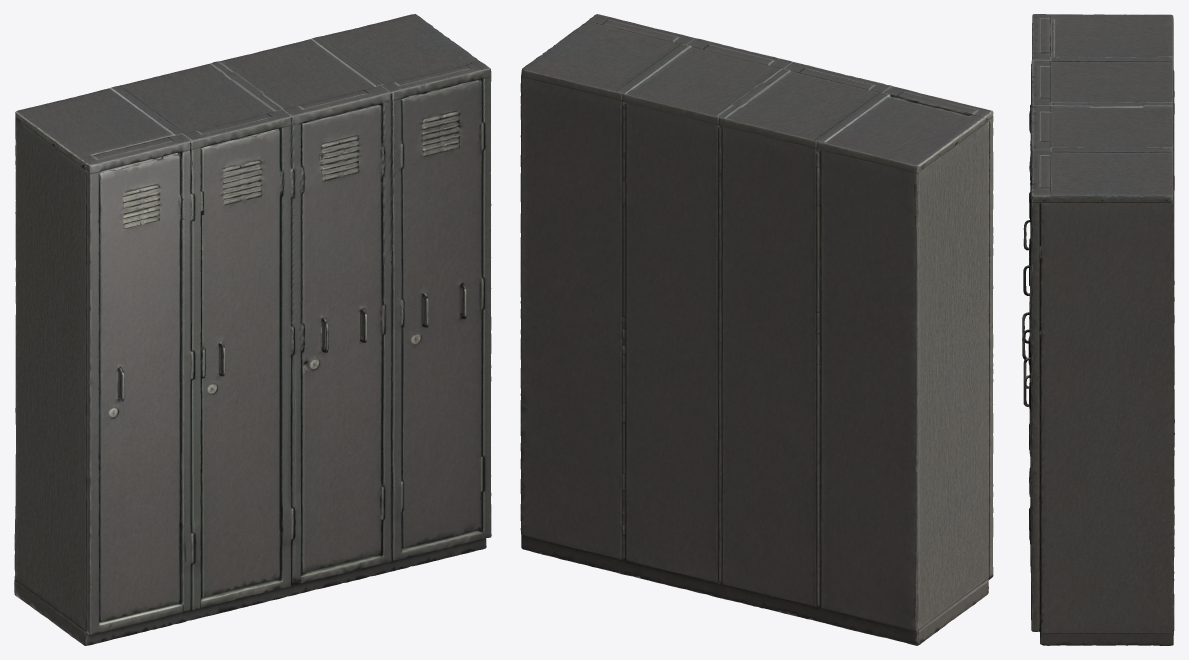
File: LockerRow.glb
The picture shows the model from 3 angles, left to right: view 1: azimuth 30°, elevation 25°; view 2: azimuth 150°, elevation 25°; view 3: azimuth 270°, elevation 25°; orthographic projection. The views are drawn at different scales.
Visible parts, largest first — view 1: texture_mapping; view 2: texture_mapping; view 3: texture_mapping.
Boxes of the visible parts, bbox=[...] form: texture_mapping: bbox=[14, 14, 491, 645]; texture_mapping: bbox=[520, 14, 993, 645]; texture_mapping: bbox=[1022, 14, 1174, 645].
Size of the model in its own units: 0.855 by 0.9892 by 0.303.
1 material, 1 textured.
